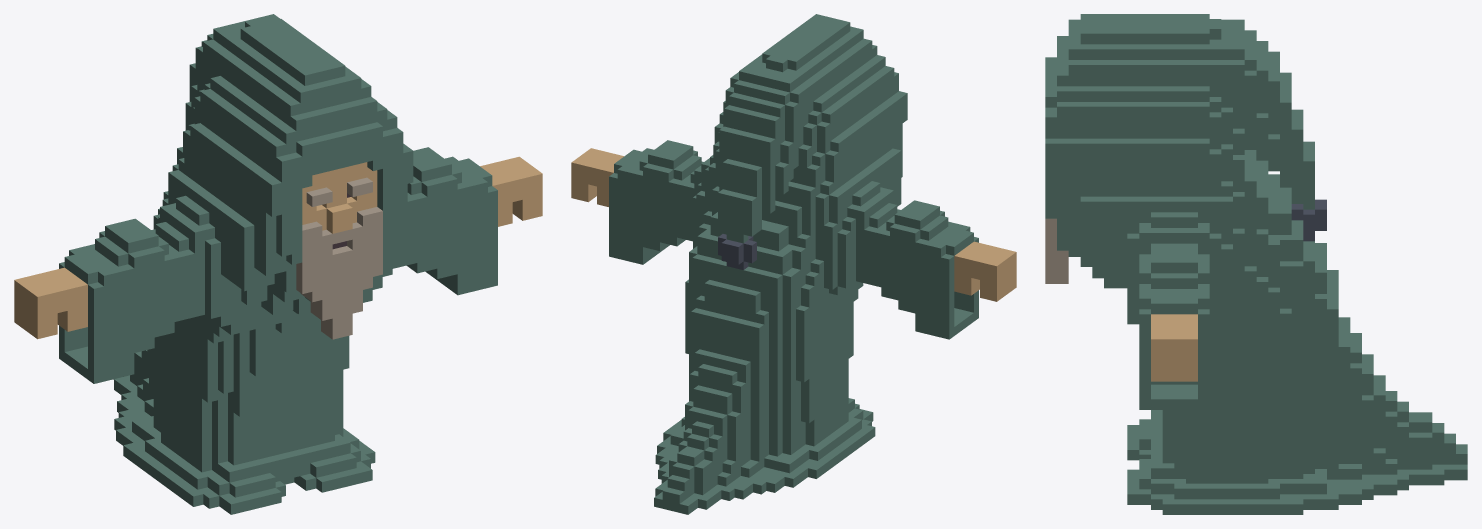
The model's file is Wizard.obj.
3 views of the same model, side by side, from view 1: azimuth 30°, elevation 25°; view 2: azimuth 150°, elevation 25°; view 3: azimuth 270°, elevation 25° (orthographic). The views are drawn at different scales.
Size of the model in its own units: 5 by 4.2 by 3.6.
1 material, 1 textured.
